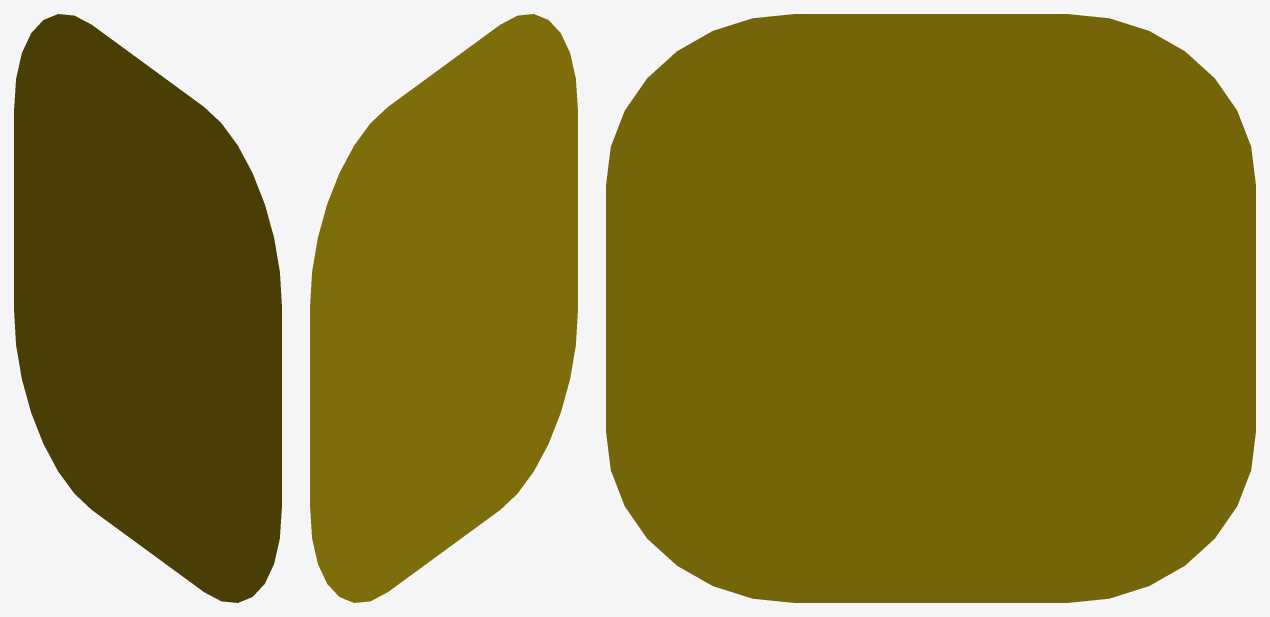
Rendered from BlackAndWhiteBlock.fbx.
3 renders of one model, left to right at view 1: azimuth 30°, elevation 25°; view 2: azimuth 150°, elevation 25°; view 3: azimuth 270°, elevation 25°, orthographic. The views are drawn at different scales.
Visible parts, largest first — view 1: PathBlock; view 2: PathBlock; view 3: PathBlock.
Part boxes in pixels (x1,y1,x2,y2): PathBlock: [14, 14, 281, 602]; PathBlock: [310, 14, 577, 602]; PathBlock: [606, 14, 1255, 602].
Bounding box in the file's own units: 2.86e-07 × 1.32 × 1.32.
